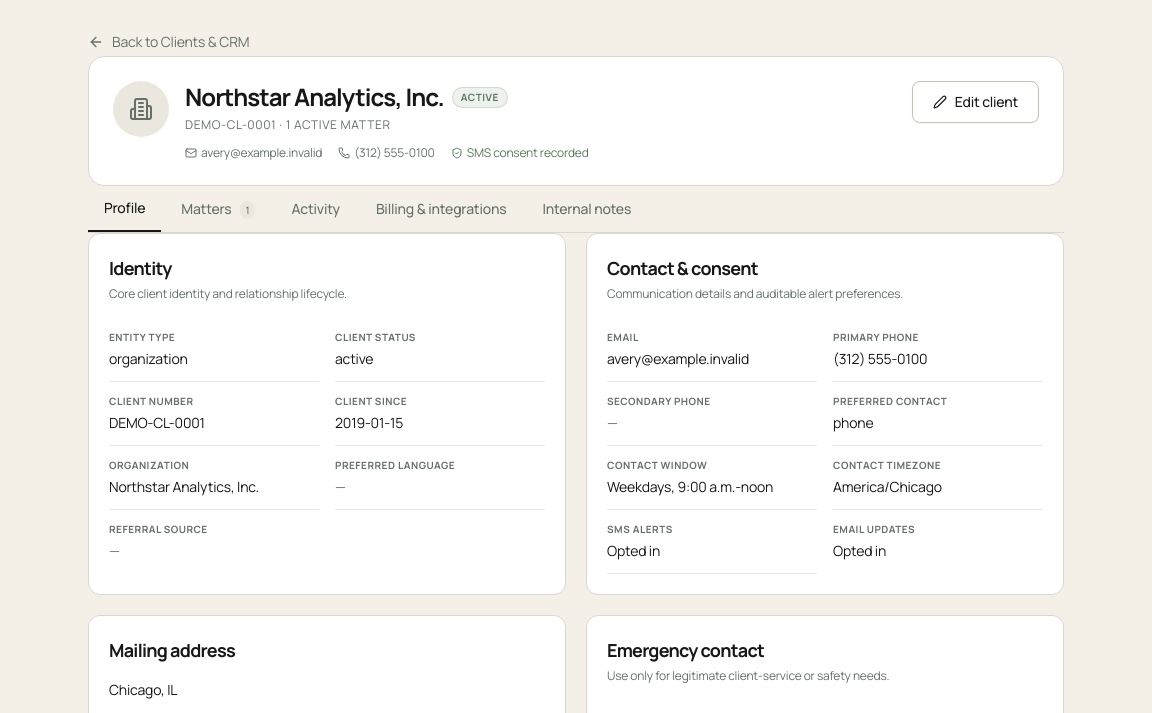
ClientDetailPage demo account view › groups related people and activity while disabling live demo sync
Check: the heading "Northstar Analytics, Inc." is shown, box [185,81,444,113]
Step 1. Click the button "Activity" → {"x": 316, "y": 209}, box [275,186,356,232]
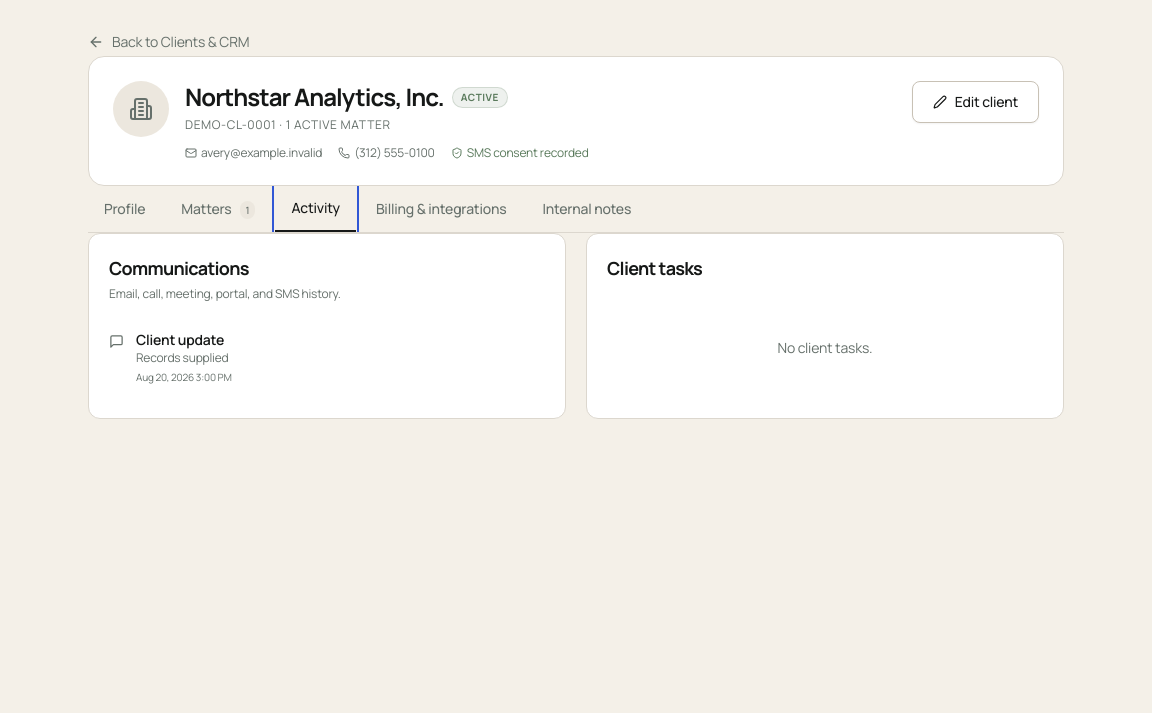
Check: the text "Client update" is shown, box [136,330,232,350]
Step 2. Click the button "Billing & integrations" → {"x": 441, "y": 209}, box [360,186,522,232]
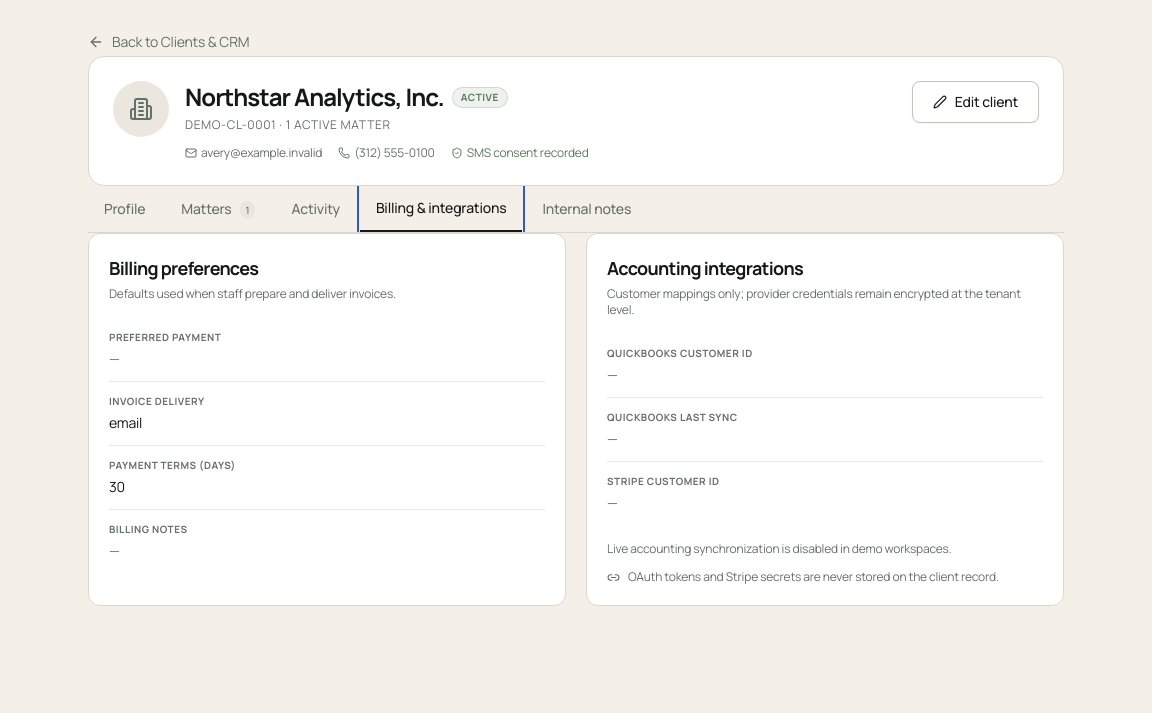
Check: the text "Live accounting synchronization is disabled in demo workspaces." is shown, box [607,540,952,557]
